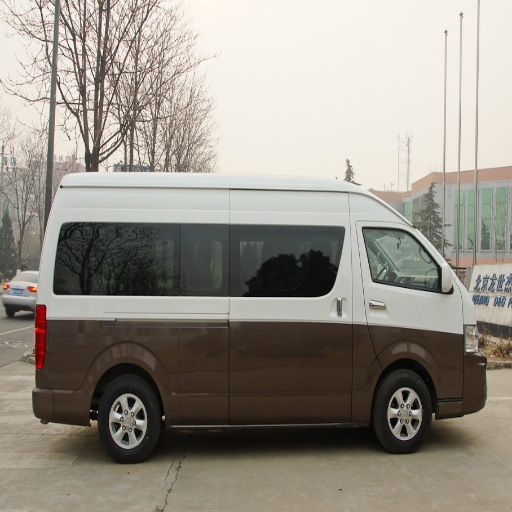trunk: (40, 297, 294, 418), (329, 324, 469, 410)
